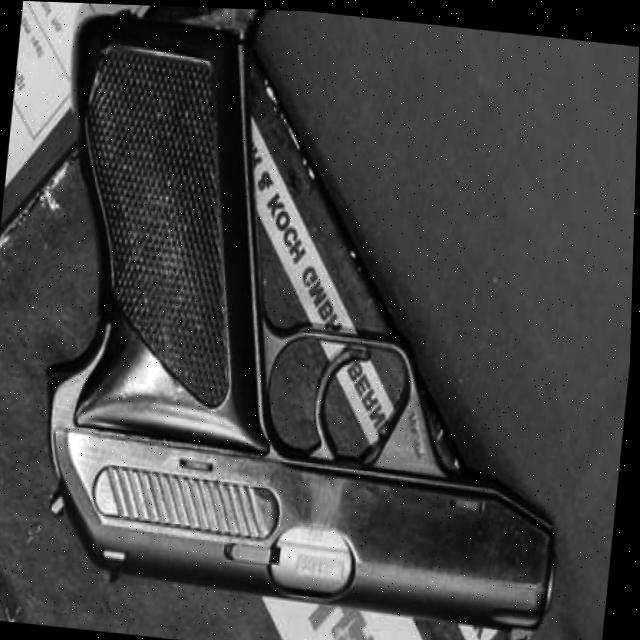pistol: (27, 16, 607, 635)
